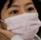with_mask: (2, 2, 41, 40)
